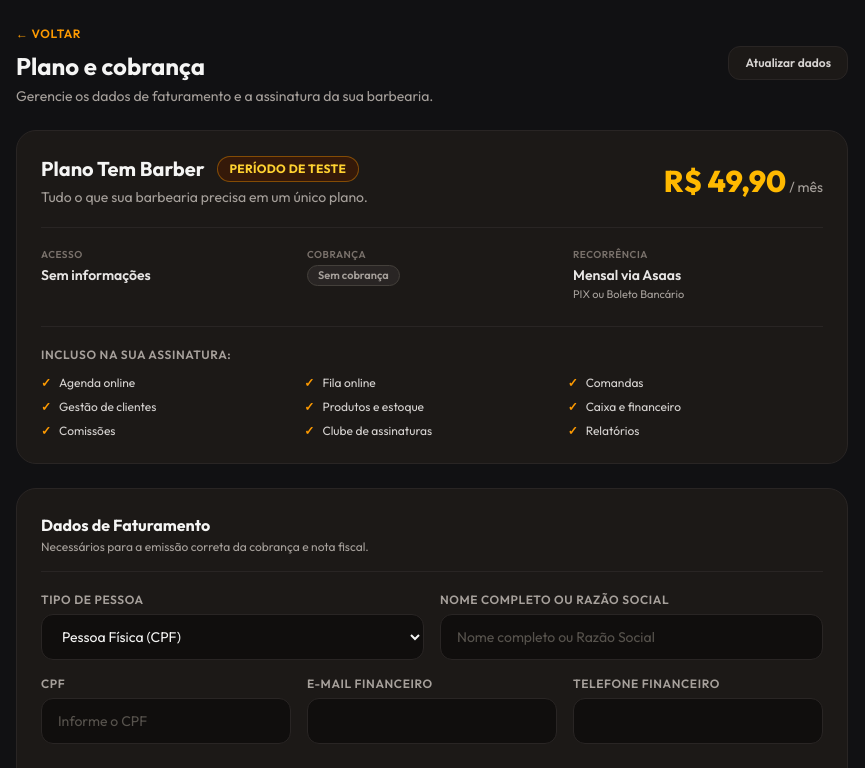
it: Plano e cobranca Asaas › salva perfil sem criar customer ou assinatura
This screenshot has width=865, height=768.
Step 1. Type "Barbearia Teste Ltda" into the field labelled "Nome completo ou razão social" → (632, 637), box [440,614,823,660]
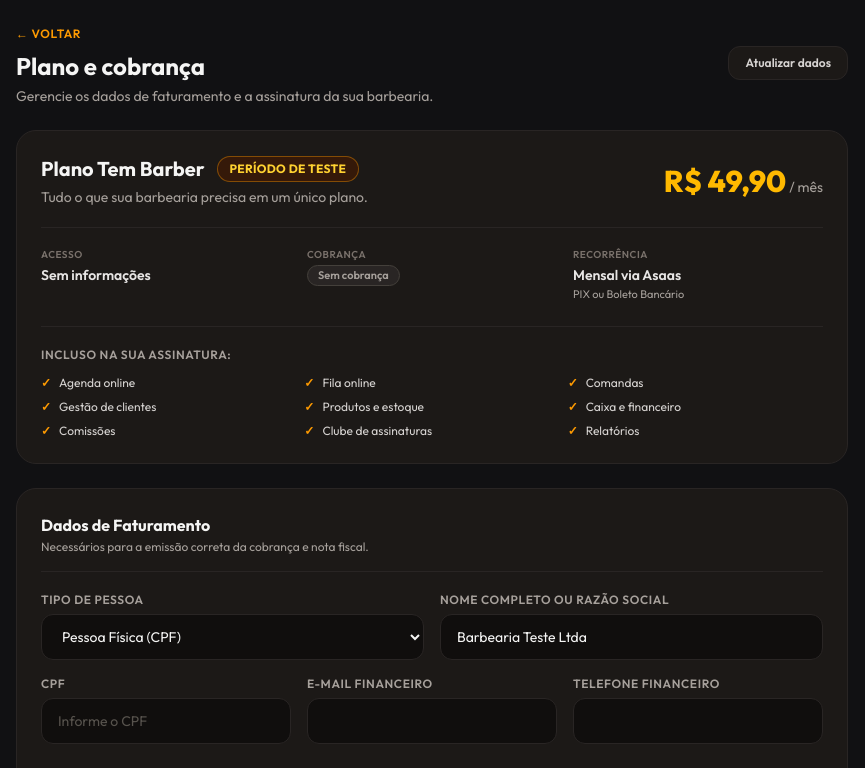
Step 2. Type "52998224725" into the field labelled "CPF" → (166, 721), box [41,698,291,744]
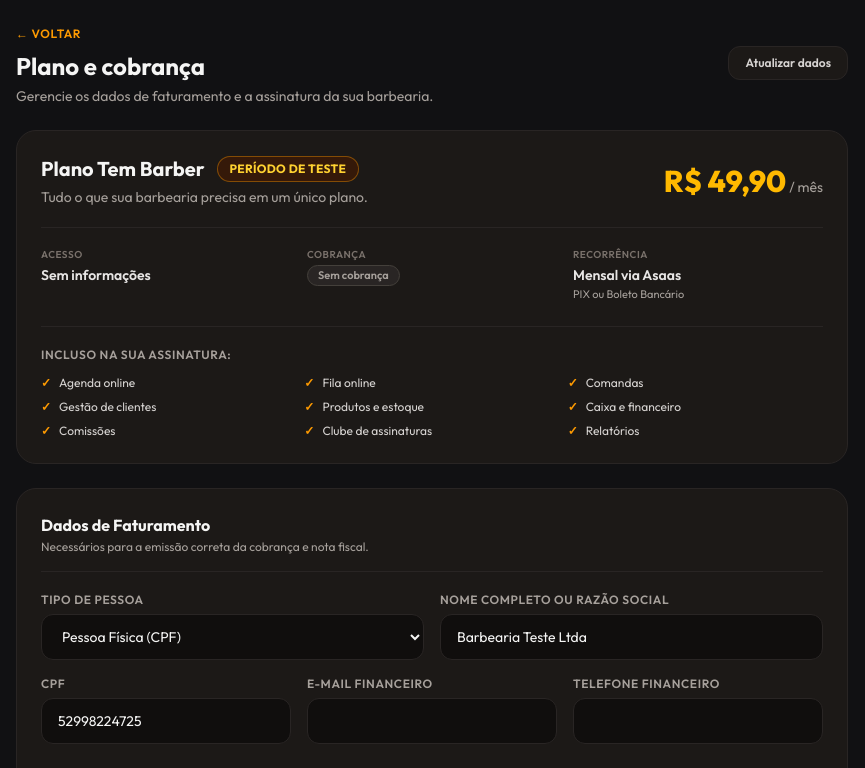
Step 3. Type "financeiro@example.com" into the field labelled "E-mail financeiro" → (432, 721), box [307,698,557,744]
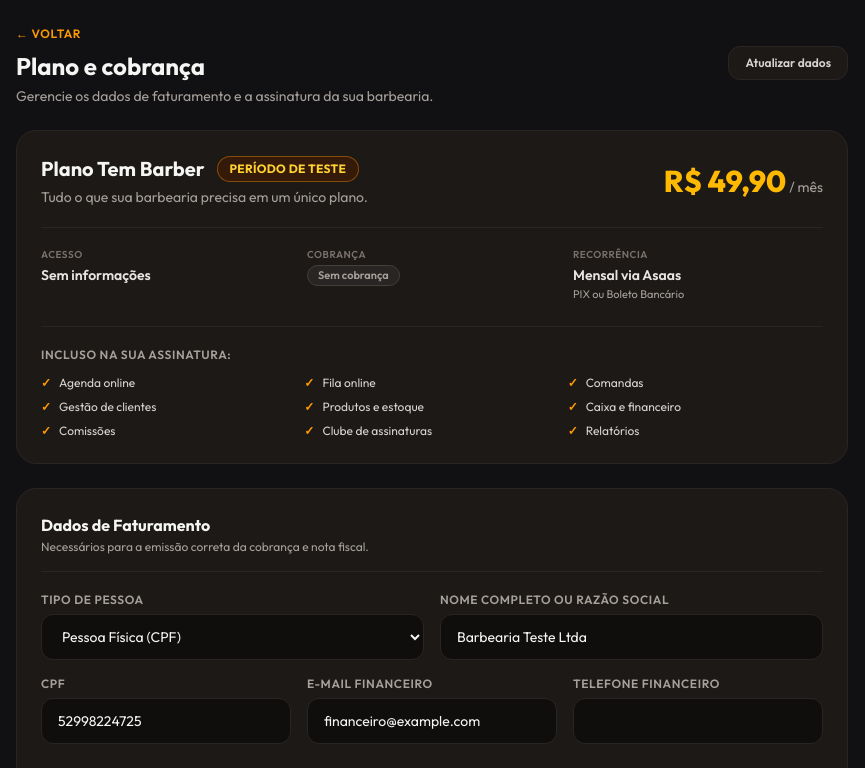
Step 4. Type "11999999999" into the field labelled "Telefone financeiro" → (698, 721), box [573,698,823,744]
(page scrolled)
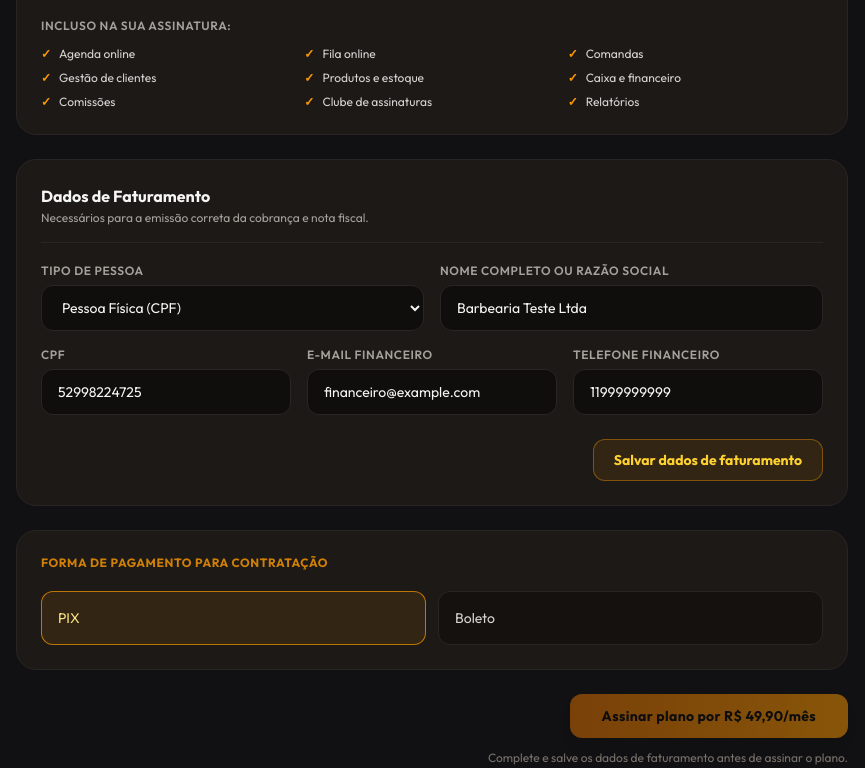
Step 5. Click the button "Salvar dados de faturamento" → (708, 460), box [593,439,823,481]
(page scrolled)
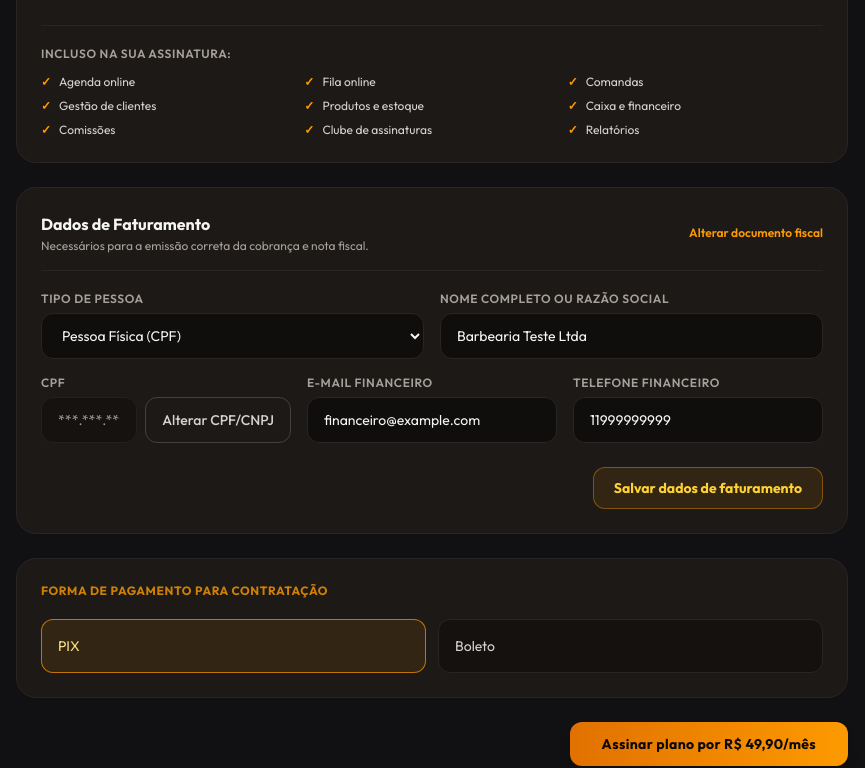
Now the field showing "***.***.***-25" is shown, box [41,397,137,443]
